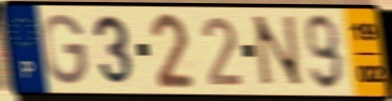2: (148, 10, 198, 91), (200, 15, 245, 88)
3: (89, 13, 138, 88)
9: (303, 11, 347, 93)
G: (41, 12, 90, 87)
N: (249, 13, 307, 90)
